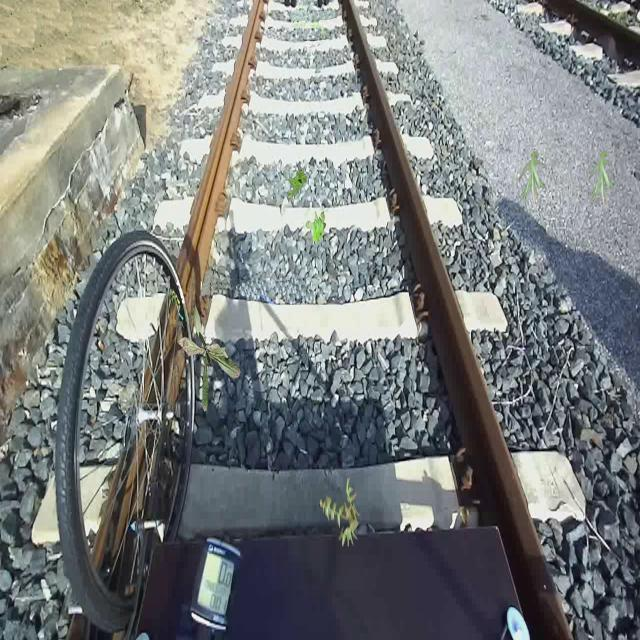Plant: (178, 300, 242, 412), (319, 476, 361, 548), (519, 150, 546, 206), (588, 150, 614, 206), (305, 211, 326, 244), (288, 168, 308, 200)
